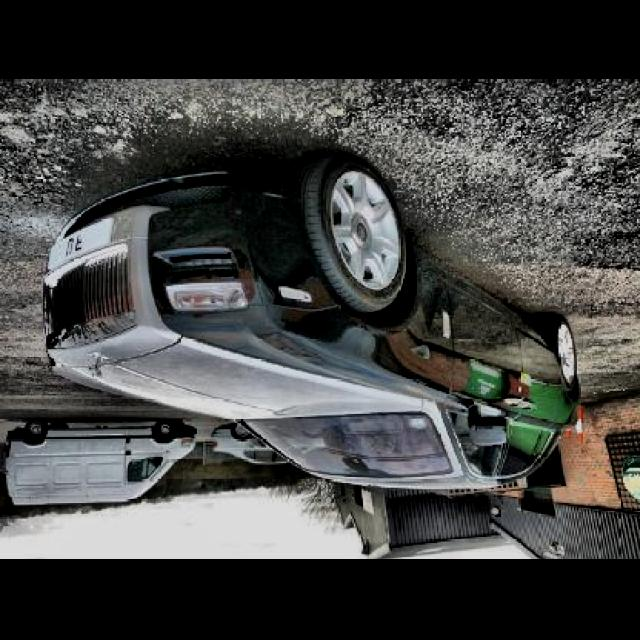black: (47, 153, 576, 491)
